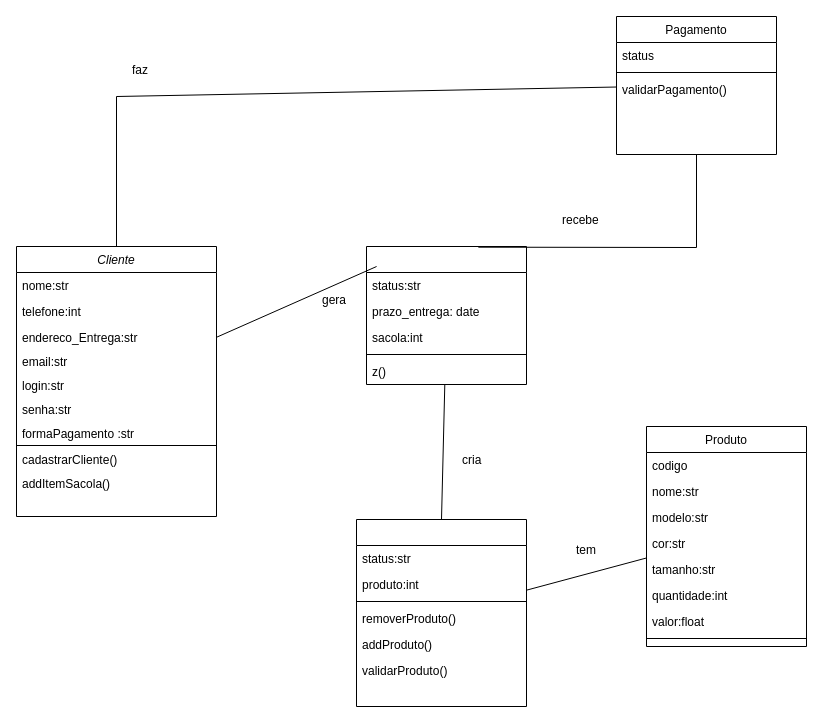
This 823x723 diagram has some shape labels left out. Here are the shapes that lost their labels. From the top down, the box of each, then its label:
(366, 246, 526, 384): Ordem
(356, 518, 526, 706): Sacola
